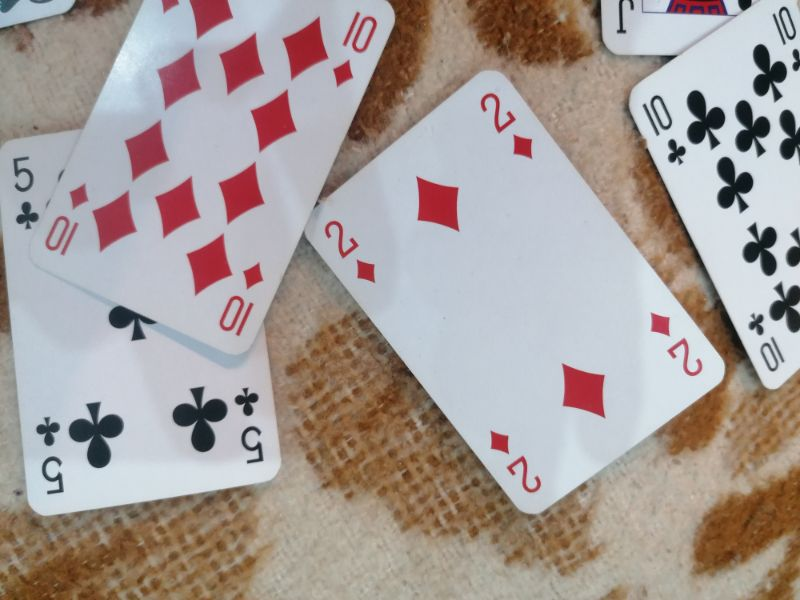2d: (644, 305, 708, 377), (478, 89, 537, 161), (322, 218, 382, 288), (486, 427, 546, 495)
5c: (230, 384, 269, 465), (33, 412, 69, 497), (10, 148, 42, 235)
Tc: (641, 93, 690, 169), (745, 310, 789, 374)
Td: (326, 8, 383, 90), (214, 256, 269, 338), (42, 177, 96, 259)
